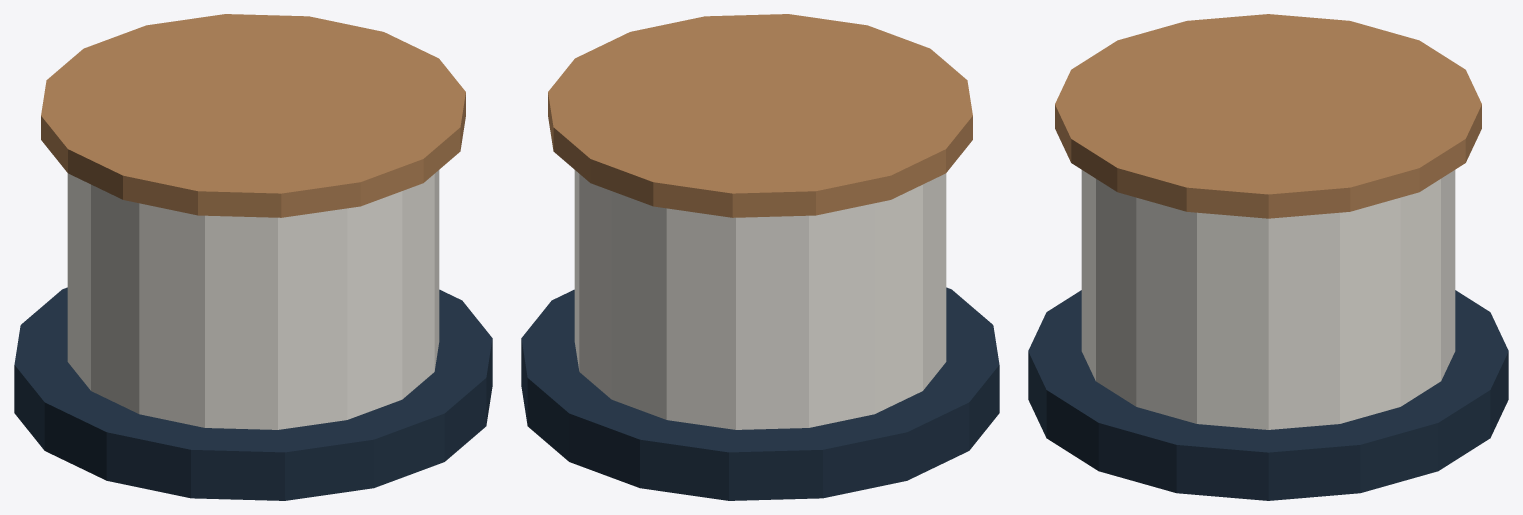
The model's file is SM_Pedestal.obj.
3 views of the same model, side by side, from view 1: azimuth 30°, elevation 25°; view 2: azimuth 150°, elevation 25°; view 3: azimuth 270°, elevation 25° (orthographic).
Parts seen in each view (by area): view 1: SM_Pedestal; view 2: SM_Pedestal; view 3: SM_Pedestal.
Boxes of the visible parts, box(x1,y1,x2,y2) form: SM_Pedestal: box(14, 14, 492, 500); SM_Pedestal: box(521, 14, 999, 500); SM_Pedestal: box(1028, 14, 1508, 500).
Bounding box in the file's own units: 1.8 × 1.22 × 1.8.
